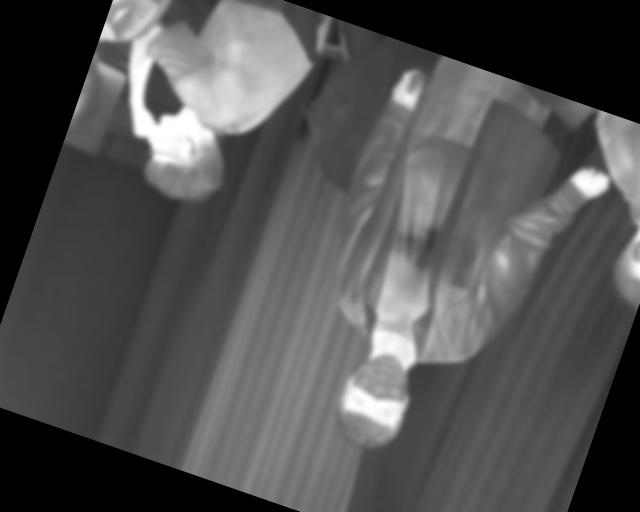face: (326, 341, 422, 457)
